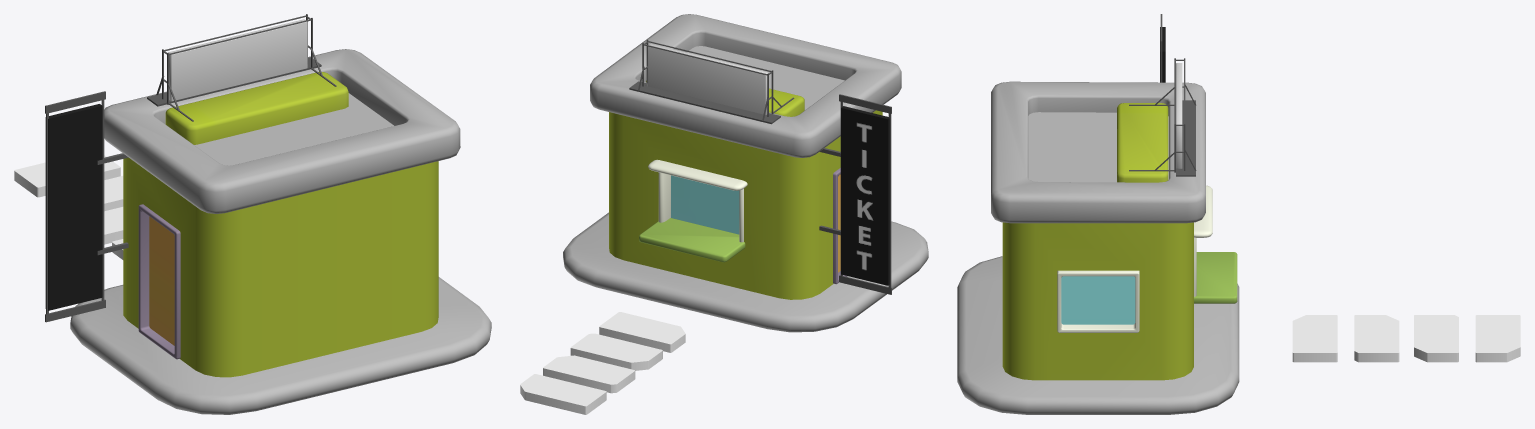
The model's file is ticket_office_green.fbx.
3 views of the same model, side by side, from view 1: azimuth 30°, elevation 25°; view 2: azimuth 150°, elevation 25°; view 3: azimuth 270°, elevation 25° (orthographic). The views are drawn at different scales.
Parts seen in each view (by area): view 1: ticket_office_green, stone3, stone2, stone4; view 2: ticket_office_green, stone3, stone4, stone1, stone2; view 3: ticket_office_green, stone1, stone2, stone3, stone4.
Boxes of the visible parts, <box> form: ticket_office_green: <box>45,14,491,414</box>; stone3: <box>14,155,120,197</box>; stone2: <box>104,207,123,244</box>; stone4: <box>104,176,123,211</box>; ticket_office_green: <box>563,14,928,332</box>; stone3: <box>520,374,606,414</box>; stone4: <box>543,355,635,393</box>; stone1: <box>599,312,685,352</box>; stone2: <box>570,333,662,370</box>; ticket_office_green: <box>957,14,1239,414</box>; stone1: <box>1292,315,1337,362</box>; stone2: <box>1354,315,1399,362</box>; stone3: <box>1475,315,1520,362</box>; stone4: <box>1414,315,1458,362</box>.
Bounding box in the file's own units: 511 × 360 × 729.
Materials: 6 (5 with a texture image).
